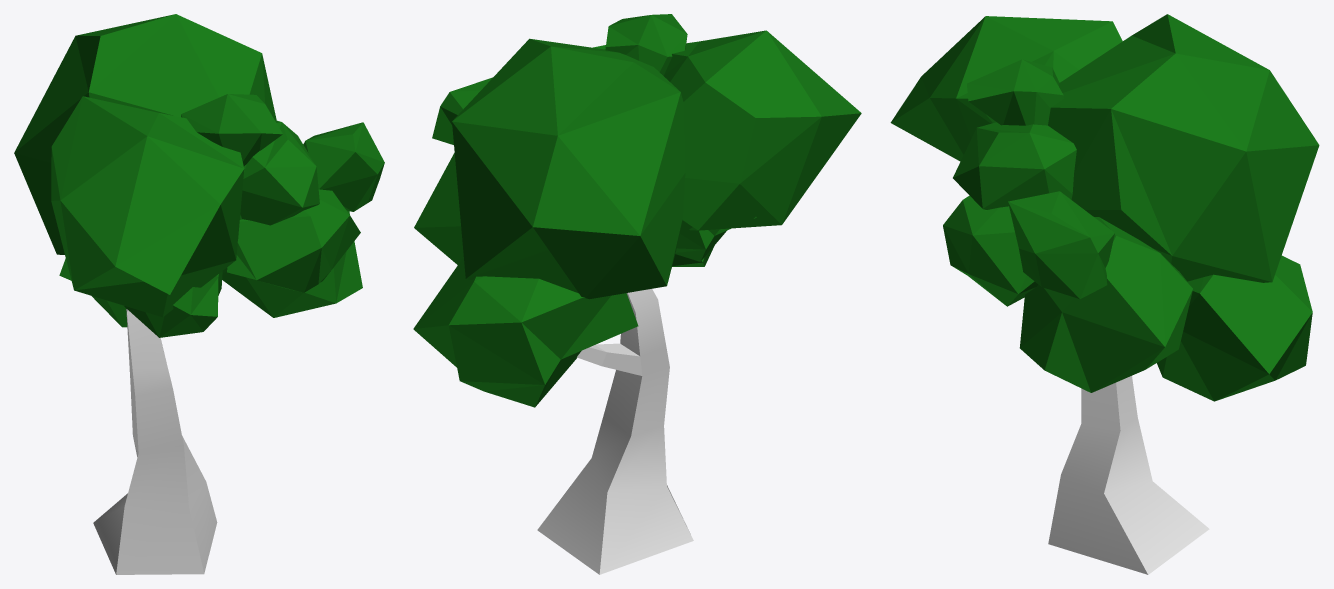
File: tree6.fbx
3 views of the same model, side by side, from view 1: azimuth 30°, elevation 25°; view 2: azimuth 150°, elevation 25°; view 3: azimuth 270°, elevation 25° (orthographic).
Parts seen in each view (by area): view 1: GeoSphere074, GeoSphere077, Box005, GeoSphere080, GeoSphere078, GeoSphere082, GeoSphere081, GeoSphere079, GeoSphere084, GeoSphere083; view 2: GeoSphere077, GeoSphere074, Box005, GeoSphere083, GeoSphere079, GeoSphere081, GeoSphere082, GeoSphere075; view 3: GeoSphere077, Box005, GeoSphere081, GeoSphere083, GeoSphere074, GeoSphere082, GeoSphere078, GeoSphere080, GeoSphere079.
Boxes of the visible parts, <box> form: GeoSphere074: <box>51,96,244,317</box>; GeoSphere077: <box>14,14,276,254</box>; Box005: <box>93,309,217,574</box>; GeoSphere080: <box>237,189,360,292</box>; GeoSphere078: <box>240,120,319,225</box>; GeoSphere082: <box>303,122,384,211</box>; GeoSphere081: <box>222,211,362,317</box>; GeoSphere079: <box>181,94,282,171</box>; GeoSphere084: <box>124,271,222,337</box>; GeoSphere083: <box>59,258,127,327</box>; GeoSphere077: <box>452,38,685,299</box>; GeoSphere074: <box>663,30,861,230</box>; Box005: <box>537,289,693,574</box>; GeoSphere083: <box>413,257,638,407</box>; GeoSphere079: <box>605,14,687,75</box>; GeoSphere081: <box>414,153,463,264</box>; GeoSphere082: <box>432,77,492,144</box>; GeoSphere075: <box>675,217,756,261</box>; GeoSphere077: <box>1048,14,1319,282</box>; Box005: <box>1048,376,1209,574</box>; GeoSphere081: <box>1019,217,1192,392</box>; GeoSphere083: <box>1157,255,1312,401</box>; GeoSphere074: <box>890,16,1122,161</box>; GeoSphere082: <box>1008,191,1114,298</box>; GeoSphere078: <box>953,122,1076,210</box>; GeoSphere080: <box>943,195,1037,306</box>; GeoSphere079: <box>967,59,1063,125</box>.
Size of the model in its own units: 2385 by 3283 by 2511.
